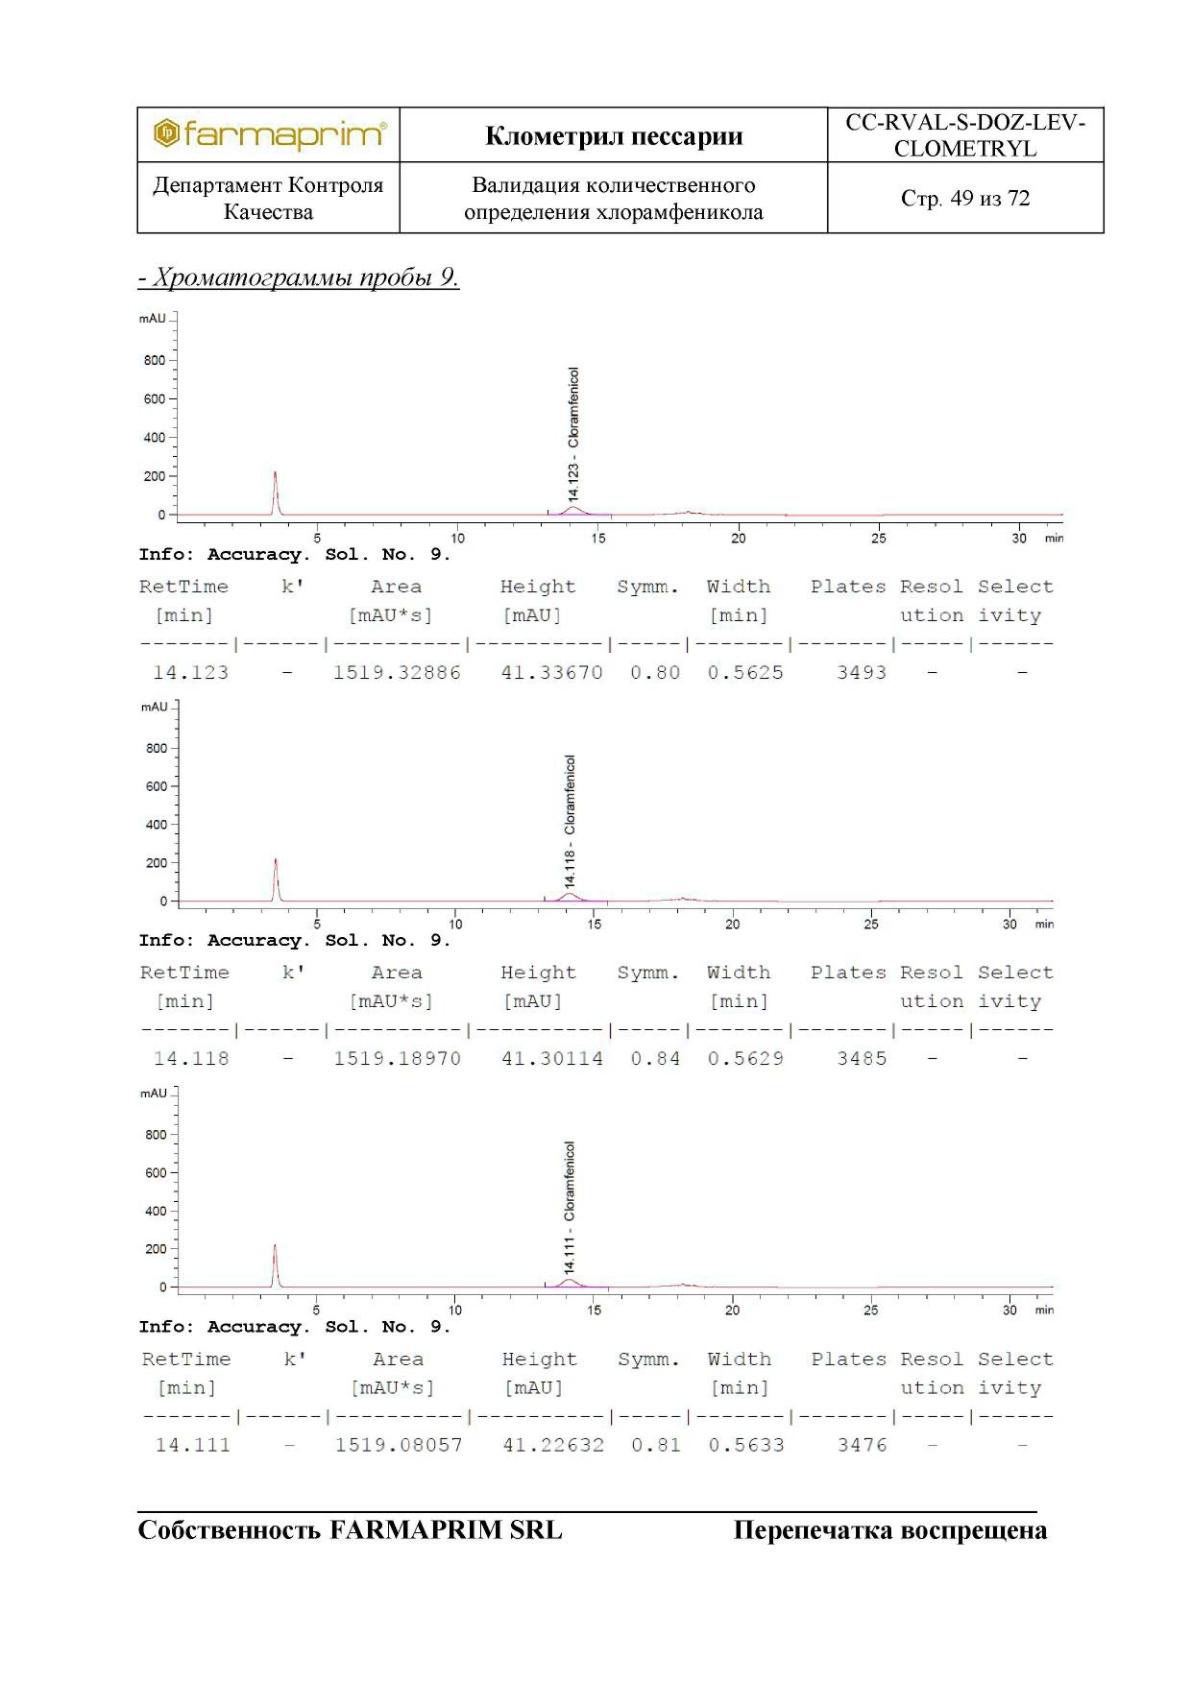full_lined: (133, 104, 1106, 237)
partial_lined: (133, 574, 1058, 690), (138, 959, 1060, 1075), (141, 1347, 1054, 1457)
